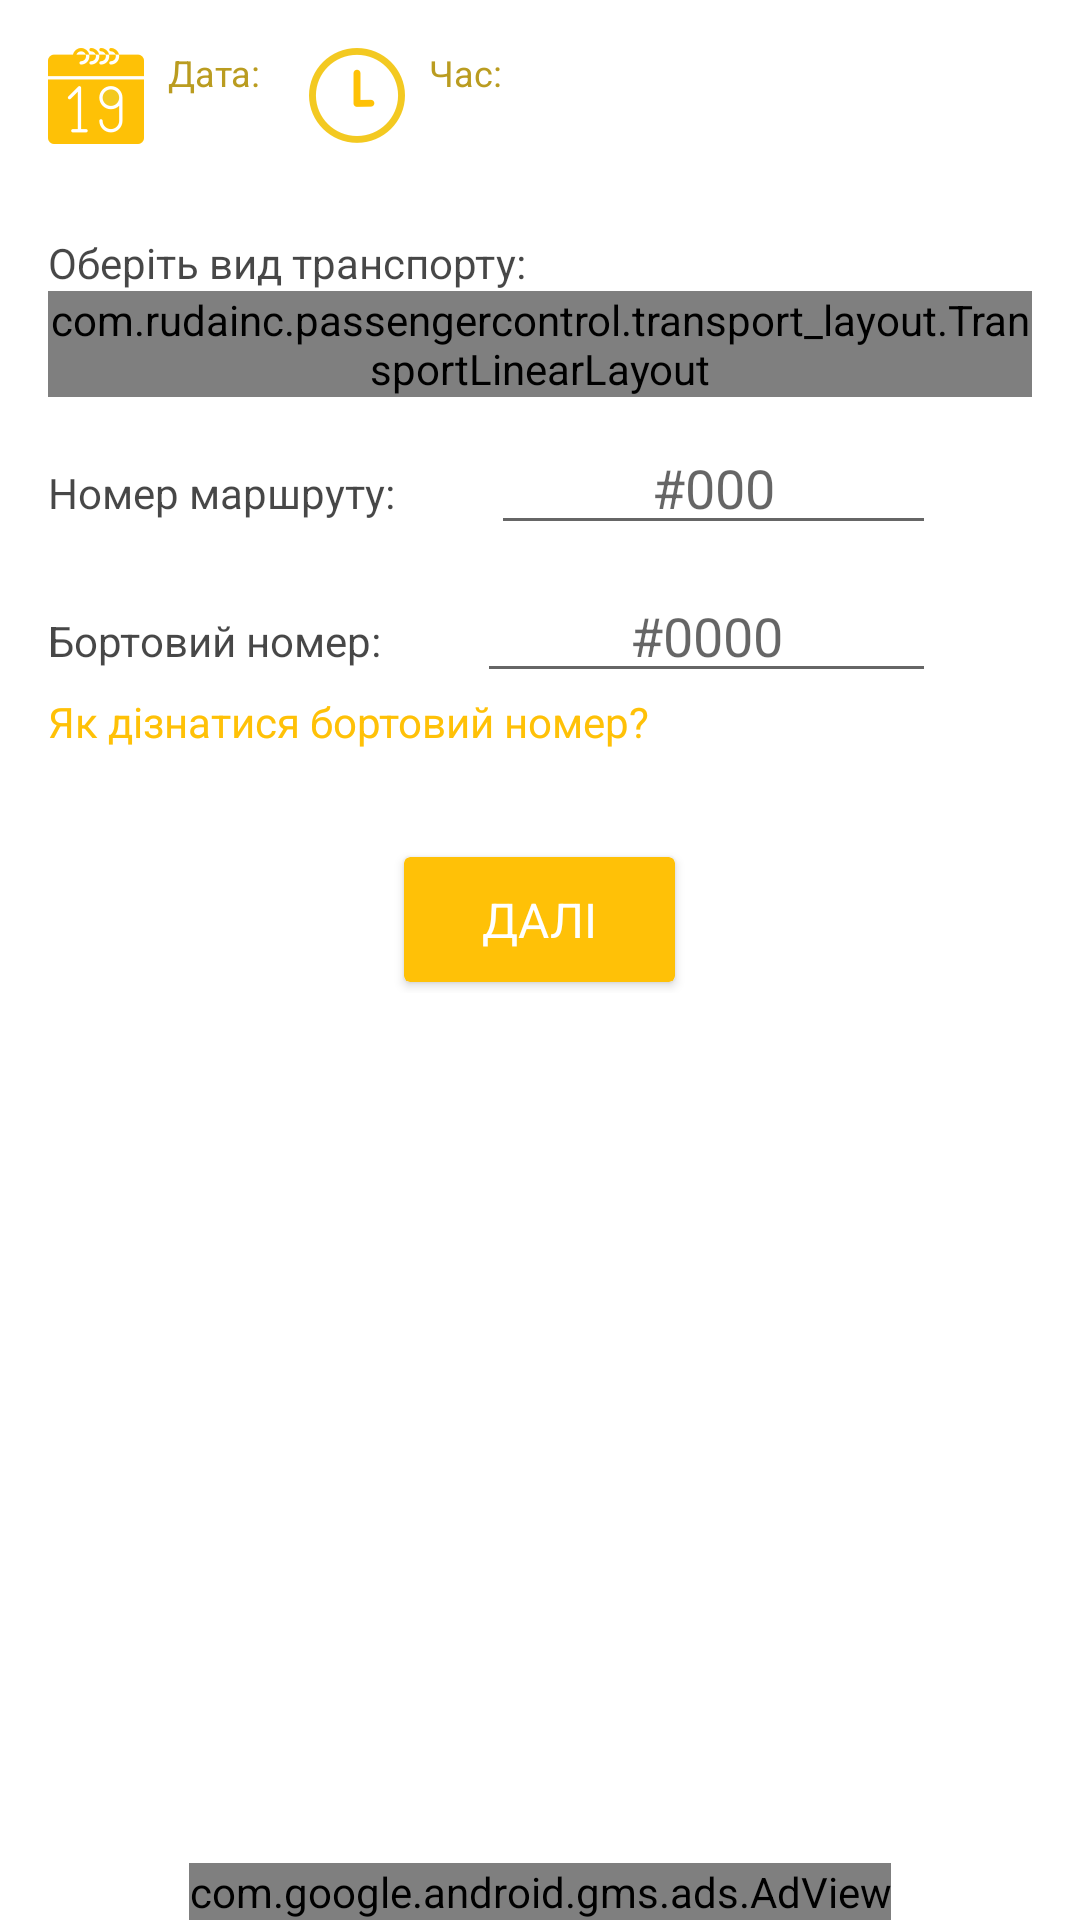

Where to tap for icons on this 1080 × 1920 app screen, as (x,y):
Годинник: (357,95)
Календар: (96,96)
